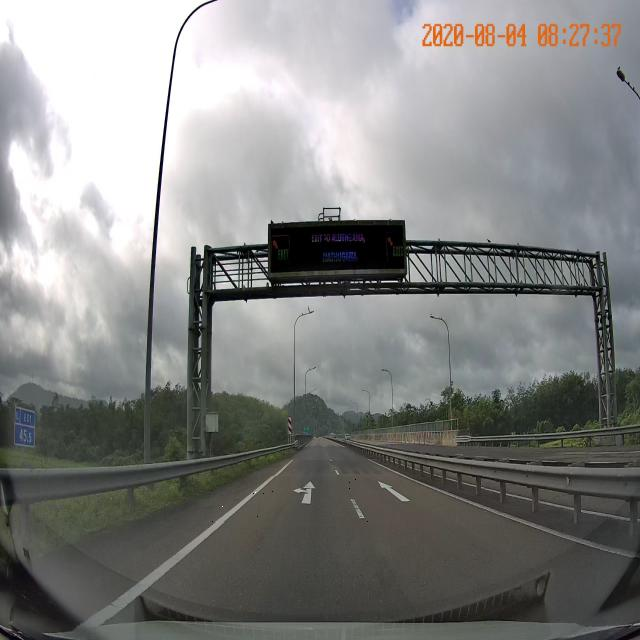forward_lft: (211, 476, 374, 522)
